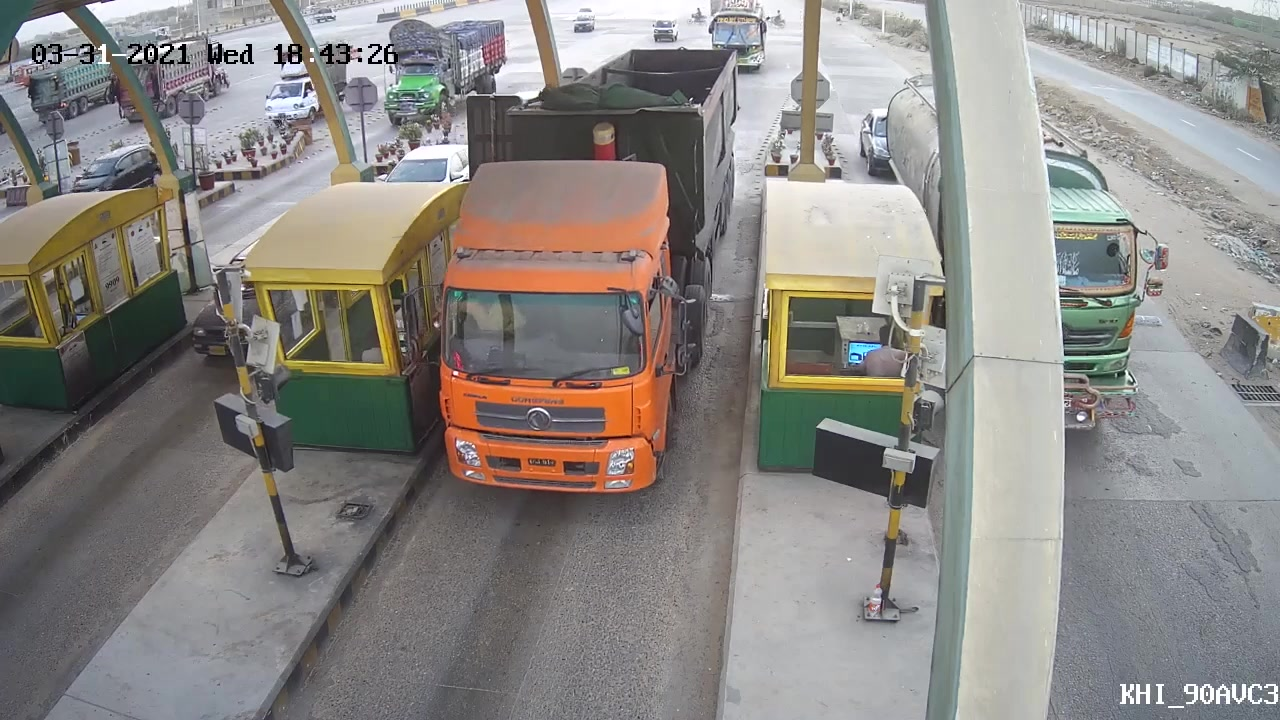F5: (416, 39, 755, 510)
